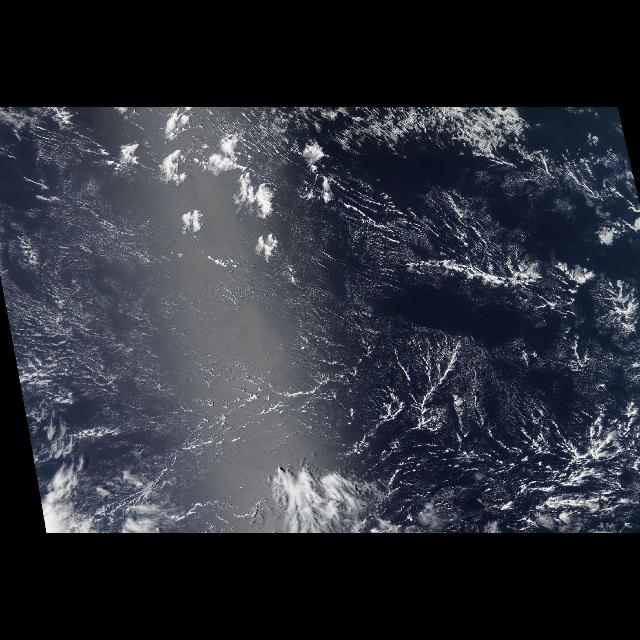Gravel: (406, 358, 618, 520)
Sugar: (5, 112, 595, 486)
